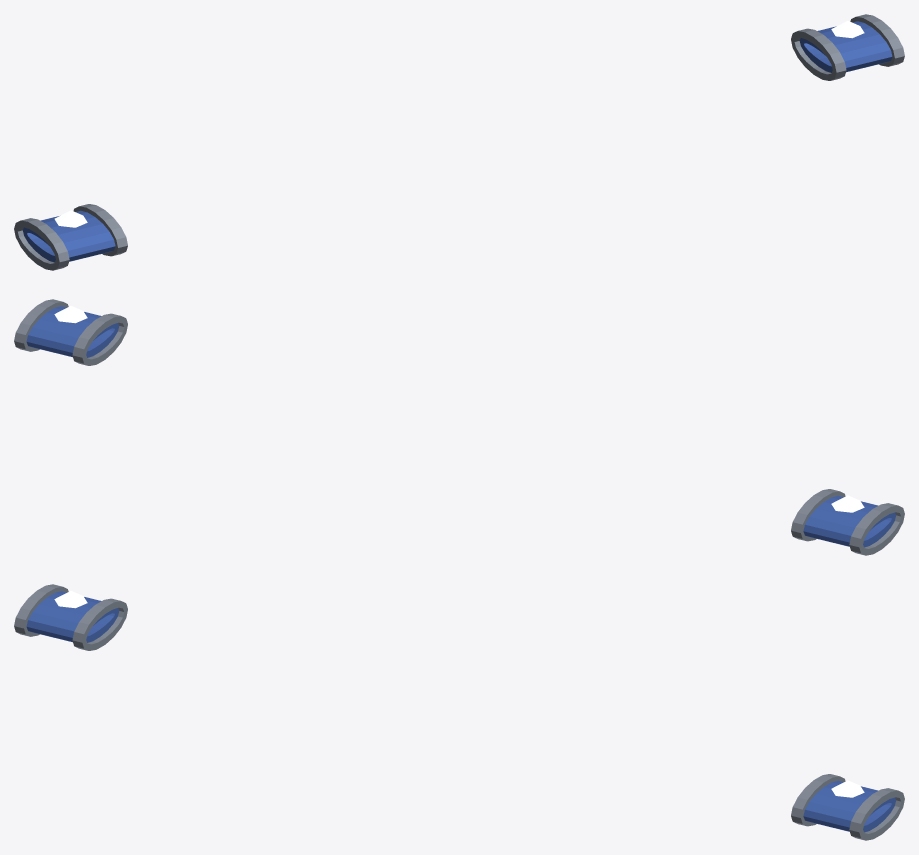
File: armor_guard_arms_rare_human.glb
The picture shows the model from 3 angles, top to bottom: view 1: azimuth 30°, elevation 25°; view 2: azimuth 150°, elevation 25°; view 3: azimuth 330°, elevation 25°; orthographic projection.
Visible parts, largest first — view 1: armor_guard_arms_rare_human__lowerarm_l, armor_guard_arms_rare_human__lowerarm_r; view 2: armor_guard_arms_rare_human__lowerarm_l, armor_guard_arms_rare_human__lowerarm_r; view 3: armor_guard_arms_rare_human__lowerarm_r, armor_guard_arms_rare_human__lowerarm_l.
Boxes of the visible parts, x1,y1,x2,y2 form: armor_guard_arms_rare_human__lowerarm_l: (791,14,904,80); armor_guard_arms_rare_human__lowerarm_r: (14,204,127,270); armor_guard_arms_rare_human__lowerarm_l: (14,299,127,365); armor_guard_arms_rare_human__lowerarm_r: (791,489,904,555); armor_guard_arms_rare_human__lowerarm_r: (14,584,127,650); armor_guard_arms_rare_human__lowerarm_l: (791,774,904,840).
Size of the model in its own units: 118 by 6.12 by 11.06.
